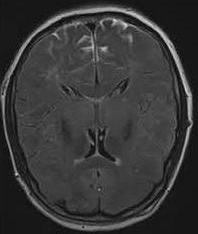Normal_Brain: (1, 1, 198, 234)
